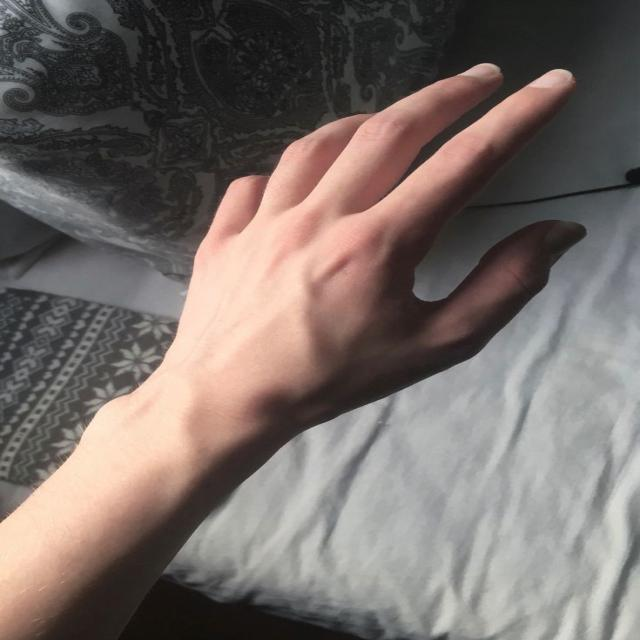hand: (159, 54, 593, 396)
